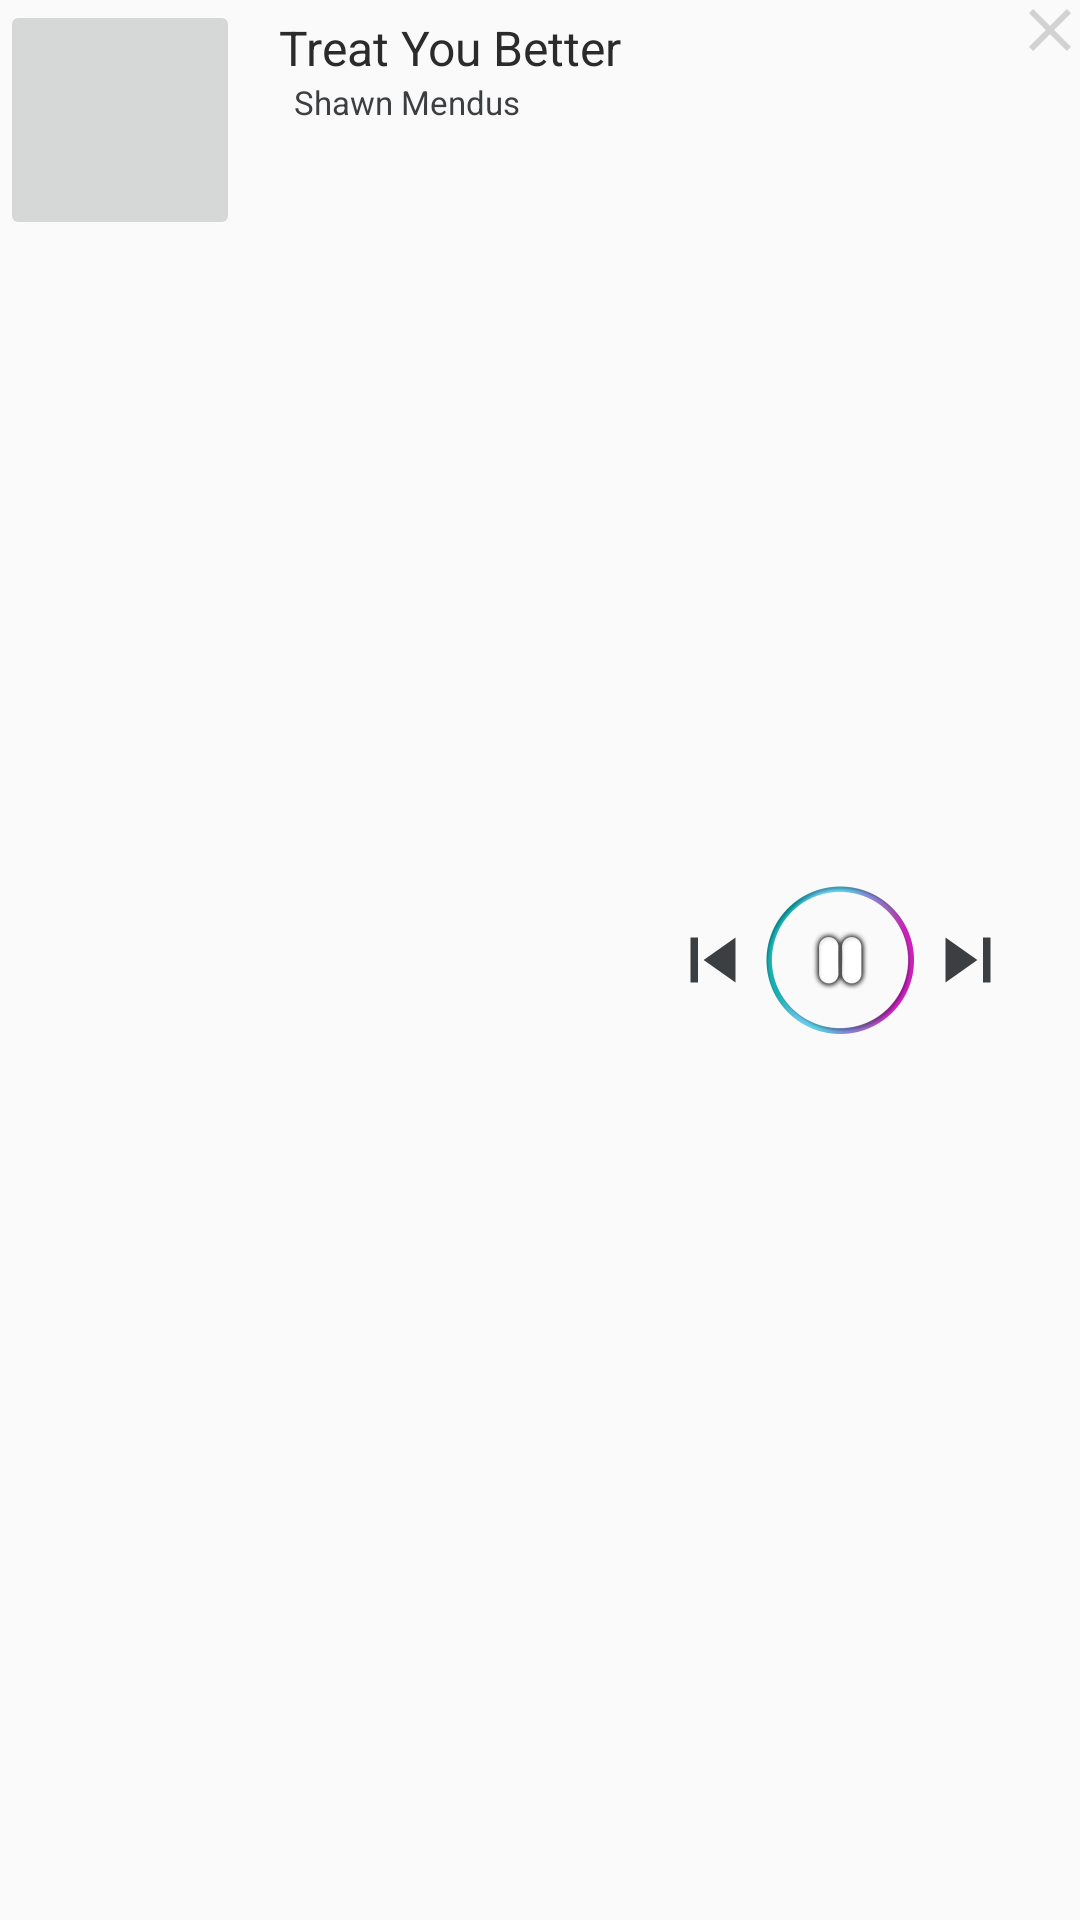

Icons on this 1080px x 1920px Android screen, each with the point to tap as (x=x, y=y):
close: (x=1050, y=30)
next: (x=968, y=960)
pause: (x=840, y=960)
prev: (x=713, y=960)
